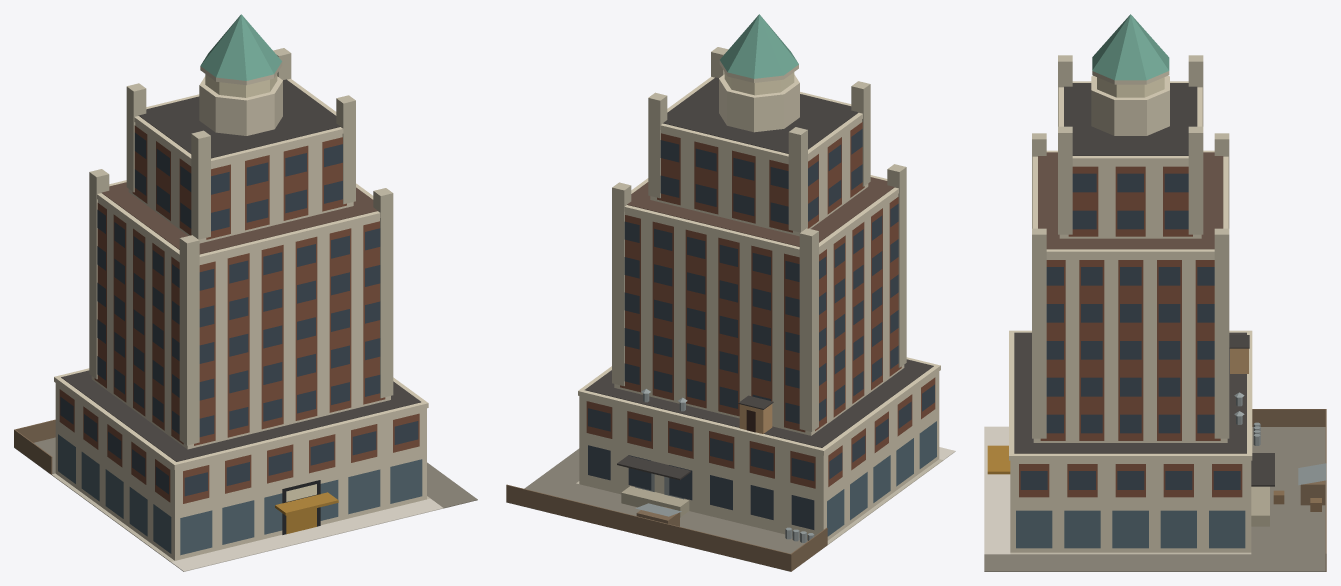
Rendered from tower.glb.
3 renders of one model, left to right at view 1: azimuth 30°, elevation 25°; view 2: azimuth 150°, elevation 25°; view 3: azimuth 270°, elevation 25°, orthographic. The views are drawn at different scales.
Parts seen in each view (by area): view 1: tower; view 2: tower; view 3: tower.
Boxes of the visible parts, <box> form: tower: <box>14,14,477,571</box>; tower: <box>506,14,955,571</box>; tower: <box>984,14,1326,571</box>.
Size of the model in its own units: 30 by 46.11 by 30.
